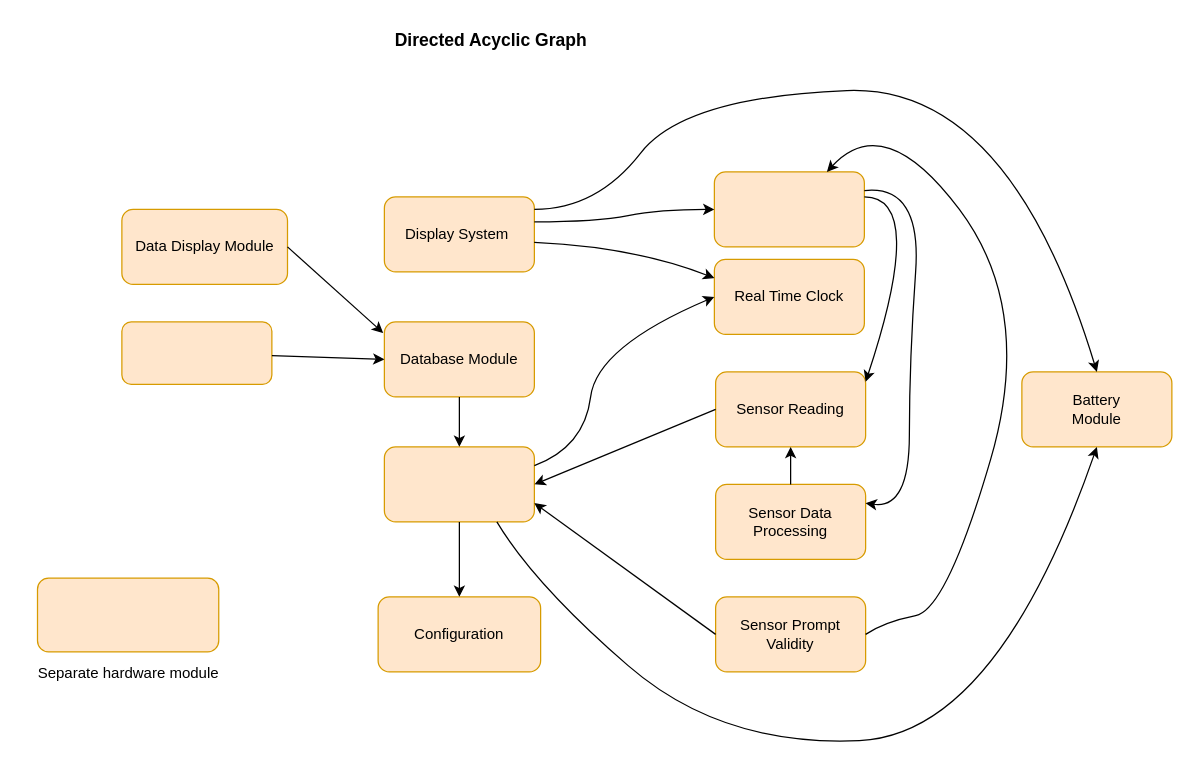
This 1194x763 diagram has some shape labels left out. Here are the shapes that lost their labels. From the top down, the box of each, then its label:
(713, 171, 864, 247): Prompt Generation
(121, 321, 272, 384): Graph Module
(383, 446, 534, 522): MicroSD Module
(36, 577, 219, 652): Physical Design (Watch Straps, Case)
